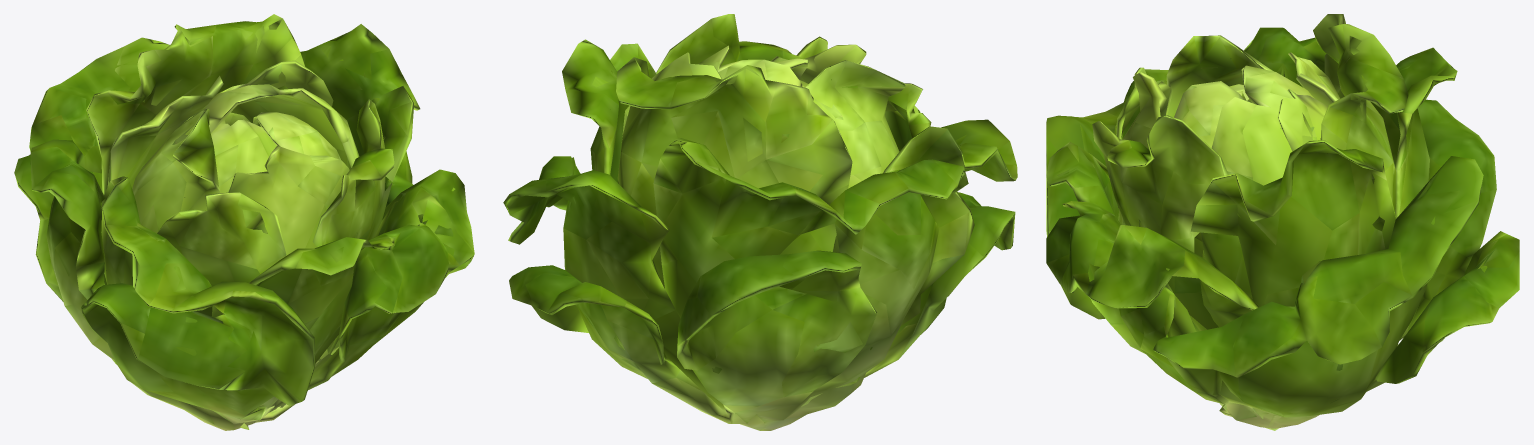
File: lettuce.glb
3 views of the same model, side by side, from view 1: azimuth 30°, elevation 25°; view 2: azimuth 150°, elevation 25°; view 3: azimuth 270°, elevation 25° (orthographic). The views are drawn at different scales.
Visible parts, largest first — view 1: Mesh_0; view 2: Mesh_0; view 3: Mesh_0.
Part boxes in pixels (x1,y1,x2,y2): Mesh_0: (14, 14, 474, 430); Mesh_0: (503, 14, 1017, 430); Mesh_0: (1046, 14, 1519, 430).
Bounding box in the file's own units: 0.1635 × 0.15 × 0.1635.
1 material, 1 textured.
